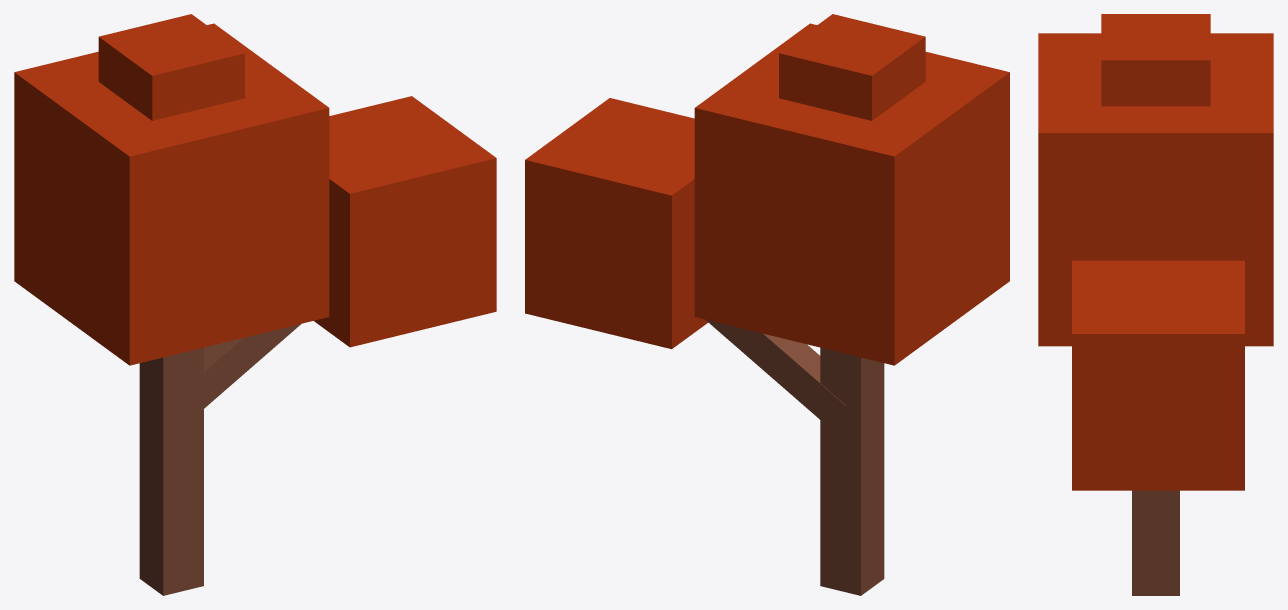
The model's file is Tree_48_summer_red_vc.fbx.
3 renders of one model, left to right at view 1: azimuth 30°, elevation 25°; view 2: azimuth 150°, elevation 25°; view 3: azimuth 270°, elevation 25°, orthographic. The views are drawn at different scales.
Parts seen in each view (by area): view 1: Tree_48_summer_red_vc; view 2: Tree_48_summer_red_vc; view 3: Tree_48_summer_red_vc.
Part boxes in pixels (x1,y1,x2,y2): Tree_48_summer_red_vc: (14, 14, 496, 595); Tree_48_summer_red_vc: (525, 14, 1009, 595); Tree_48_summer_red_vc: (1038, 14, 1273, 595).
Bounding box in the file's own units: 140 × 187 × 72.7.
